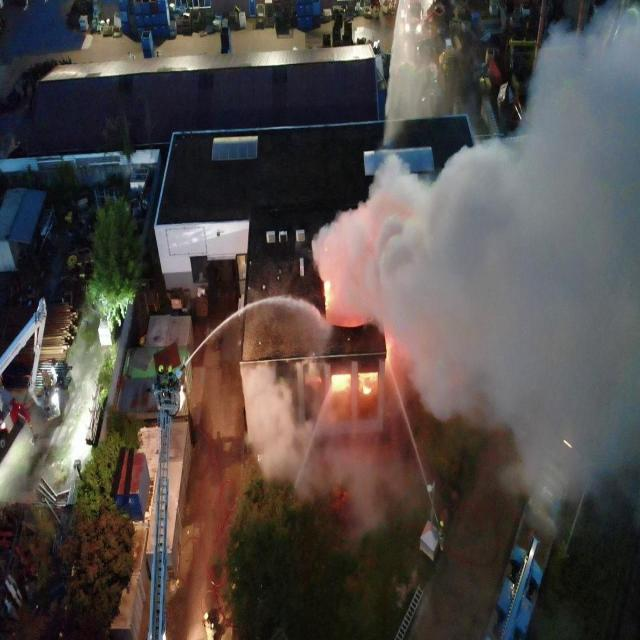Fire: (332, 374, 351, 391), (384, 342, 392, 368), (324, 279, 330, 311), (358, 372, 379, 380), (364, 386, 372, 394)
Smoke: (311, 0, 640, 506), (240, 361, 390, 539)
